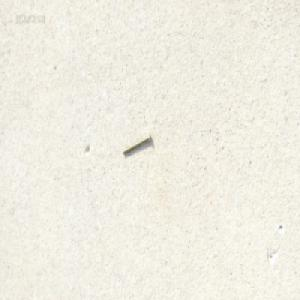Bolt: (122, 132, 150, 155)
